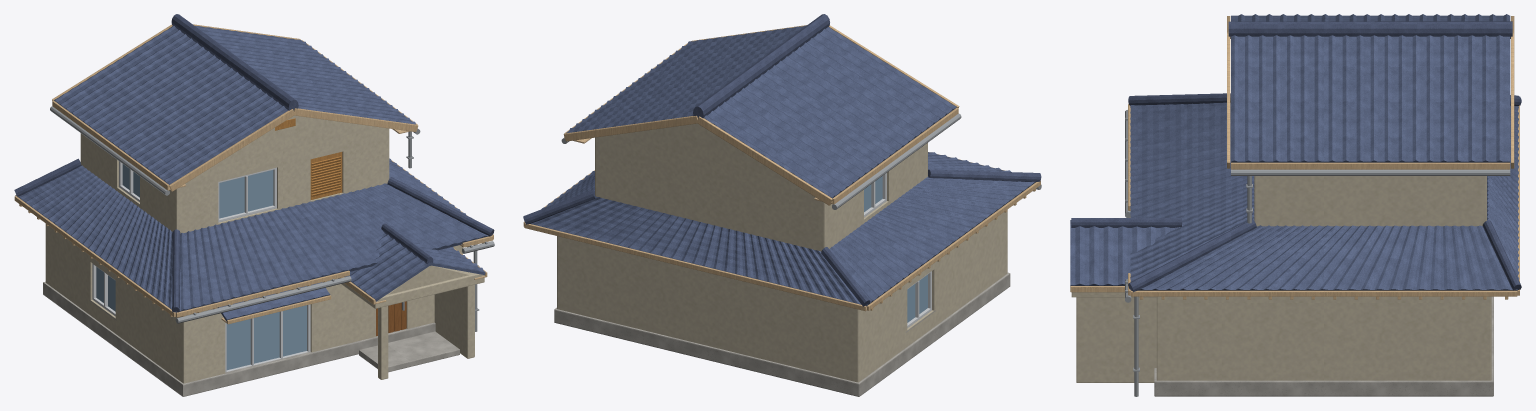
Rendered from house.glb.
3 renders of one model, left to right at view 1: azimuth 30°, elevation 25°; view 2: azimuth 150°, elevation 25°; view 3: azimuth 270°, elevation 25°, orthographic. The views are drawn at different scales.
Parts seen in each view (by area): view 1: apron_back, gable_wall_back, plinth, barge_back_1, front_door_light, apron_hip_back_1, downpipe_lower, front_door_case_left, gable_vent, front_door_leaf; view 2: apron_back, gable_wall_back, barge_back_1, plinth, apron_hip_back_1, front_door_light, downpipe_lower, front_door_case_left; view 3: apron_back, gable_wall_back, apron_hip_back_1, barge_back_1, plinth, downpipe_lower.
Boxes of the visible parts, x1,y1,x2,y2 form: apron_back: (16, 25, 492, 321); gable_wall_back: (45, 115, 484, 383); plinth: (43, 281, 459, 396); barge_back_1: (14, 24, 493, 324); front_door_light: (96, 164, 306, 370); apron_hip_back_1: (14, 14, 494, 312); downpipe_lower: (50, 106, 494, 331); front_door_case_left: (92, 161, 310, 372); gable_vent: (275, 118, 342, 199); front_door_leaf: (376, 301, 406, 336); apron_back: (531, 25, 1035, 306); gable_wall_back: (557, 123, 1007, 382); barge_back_1: (523, 25, 1040, 311); plinth: (554, 272, 1010, 396); apron_hip_back_1: (523, 14, 1041, 306); front_door_light: (864, 176, 927, 322); downpipe_lower: (561, 113, 1041, 209); front_door_case_left: (864, 173, 931, 327); apron_back: (1070, 14, 1519, 290); gable_wall_back: (1071, 176, 1491, 382); apron_hip_back_1: (1071, 21, 1521, 292); barge_back_1: (1070, 16, 1519, 299); plinth: (1154, 296, 1493, 396); downpipe_lower: (1125, 110, 1510, 396).
Bounding box in the file's own units: 9.67 × 6.91 × 9.69.
Materials: 14 (9 with a texture image).
